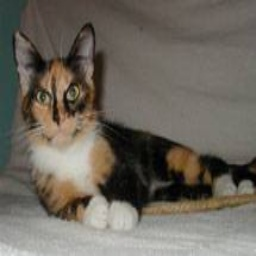cat: (6, 23, 253, 228)
